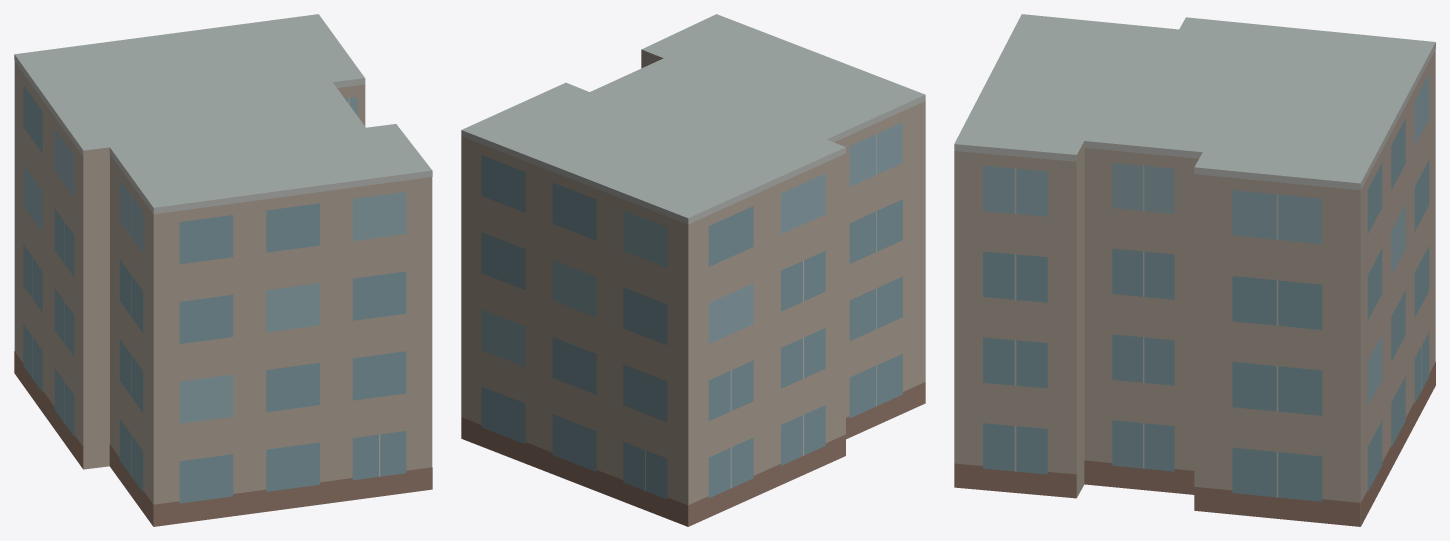
Rendered from survey-upis-32793650.glb.
The picture shows the model from 3 angles, left to right: view 1: azimuth 30°, elevation 25°; view 2: azimuth 150°, elevation 25°; view 3: azimuth 270°, elevation 25°; orthographic projection. The views are drawn at different scales.
Parts seen in each view (by area): view 1: survey-upis-32793650.tmp; view 2: survey-upis-32793650.tmp; view 3: survey-upis-32793650.tmp.
Boxes of the visible parts, left/top/right/bottom form: survey-upis-32793650.tmp: left=14, top=14, right=432, bottom=526; survey-upis-32793650.tmp: left=461, top=14, right=925, bottom=526; survey-upis-32793650.tmp: left=954, top=14, right=1435, bottom=526.
Size of the model in its own units: 12.92 by 12.2 by 15.52.
